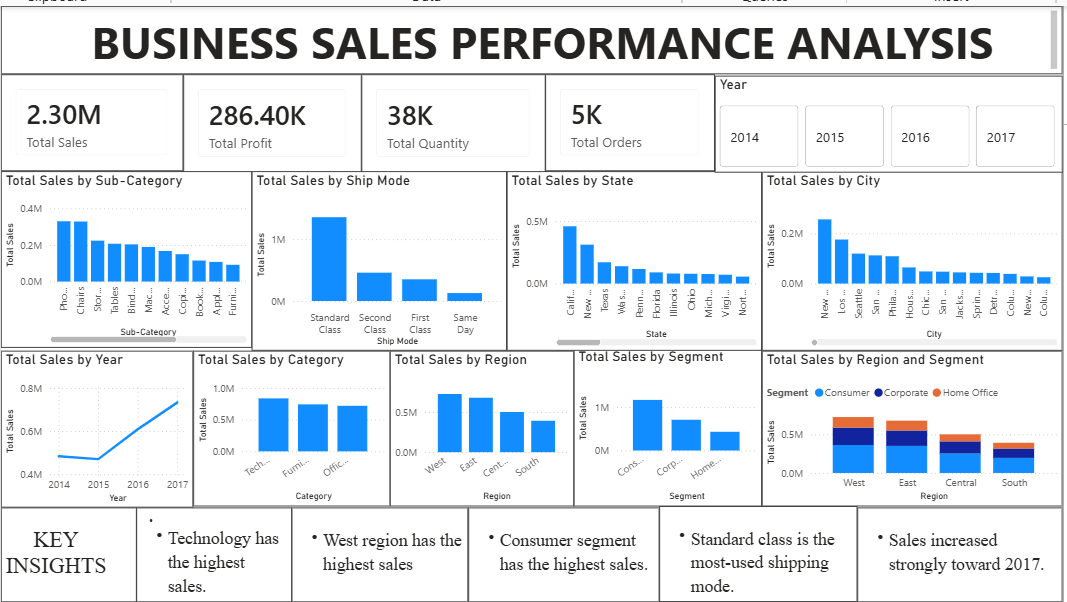

Layout of this report page (visuals, bound fields, positions):
{"tool":"powerbi","page":{"name":"Sales Performance Dashboard","canvas":[1280,720],"ordinal":0},"visuals":[{"type":"cardVisual","fields":{"Data":["Sample - Superstore.Total Sales"]},"box":[0,82.4,219.8,116.8],"z":0},{"type":"cardVisual","fields":{"Data":["Sample - Superstore.Total Profit"]},"box":[219.8,82.4,214.7,118.5],"z":1000},{"type":"cardVisual","fields":{"Data":["Sample - Superstore.Total Quantity"]},"box":[434.5,82.4,221.6,118.5],"z":2000},{"type":"cardVisual","fields":{"Data":["Sample - Superstore.Total Orders"]},"box":[656.1,82.4,204.4,116.8],"z":3000},{"type":"lineChart","fields":{"Category":["Sample - Superstore.Order Date.Variation.Date Hierarchy.Year","Sample - Superstore.Order Date.Variation.Date Hierarchy.Quarter","Sample - Superstore.Order Date.Variation.Date Hierarchy.Month","Sample - Superstore.Order Date.Variation.Date Hierarchy.Day"],"Y":["Sample - Superstore.Total Sales"]},"box":[0,415.6,231.9,188.9],"z":4000},{"type":"clusteredColumnChart","fields":{"Category":["Sample - Superstore.Category"],"Y":["Sample - Superstore.Total Sales"]},"box":[231.9,415.6,237,187.2],"z":5000},{"type":"clusteredColumnChart","fields":{"Category":["Sample - Superstore.Region"],"Y":["Sample - Superstore.Total Sales"]},"box":[468.9,415.6,221.6,187.2],"z":6000},{"type":"clusteredColumnChart","fields":{"Category":["Sample - Superstore.Segment"],"Y":["Sample - Superstore.Total Sales"]},"box":[690.5,412.2,226.7,190.6],"z":7000},{"type":"clusteredColumnChart","fields":{"Category":["Sample - Superstore.Sub-Category"],"Y":["Sample - Superstore.Total Sales"]},"box":[0,199.2,302.3,213],"z":8000},{"type":"clusteredColumnChart","fields":{"Category":["Sample - Superstore.Ship Mode"],"Y":["Sample - Superstore.Total Sales"]},"box":[302.3,199.2,307.4,216.4],"z":9000},{"type":"clusteredColumnChart","fields":{"Category":["Sample - Superstore.State"],"Y":["Sample - Superstore.Total Sales"]},"box":[609.7,199.2,307.4,216.4],"z":10000},{"type":"clusteredColumnChart","fields":{"Category":["Sample - Superstore.City"],"Y":["Sample - Superstore.Total Sales"]},"box":[917.2,199.2,362.4,216.4],"z":11000},{"type":"columnChart","fields":{"Category":["Sample - Superstore.Region"],"Y":["Sample - Superstore.Total Sales"],"Series":["Sample - Superstore.Segment"]},"box":[917.2,415.6,362.4,187.2],"z":12000},{"type":"advancedSlicerVisual","fields":{"Values":["Sample - Superstore.Order Date.Variation.Date Hierarchy.Year"]},"box":[860.5,84.2,419.1,116.8],"z":13000},{"type":"textbox","box":[0,0,1279.6,82.4],"z":14000},{"type":"textbox","box":[0,604.6,163.2,115.1],"z":15000},{"type":"textbox","box":[163.2,604.6,187.2,115.1],"z":16000},{"type":"textbox","box":[350.4,604.6,213,115.1],"z":17000},{"type":"textbox","box":[563.4,604.6,230.2,115.1],"z":17001},{"type":"textbox","box":[793.5,602.9,238.7,116.8],"z":17002},{"type":"textbox","box":[1032.2,604.6,247.3,115.1],"z":17003}]}

Visuals, with their boxes in screenshot pixels (x1, y1, x2, y2), scaled from the page's 1280x720 canvas onto the 1067x602 screenshot:
cardVisual - Sample - Superstore.Total Sales: x1=0, y1=69, x2=183, y2=167
cardVisual - Sample - Superstore.Total Profit: x1=183, y1=69, x2=362, y2=168
cardVisual - Sample - Superstore.Total Quantity: x1=362, y1=69, x2=547, y2=168
cardVisual - Sample - Superstore.Total Orders: x1=547, y1=69, x2=717, y2=167
lineChart - Sample - Superstore.Order Date.Variation.Date Hierarchy.Year x Sample - Superstore.Order Date.Variation.Date Hierarchy.Quarter: x1=0, y1=347, x2=193, y2=505
clusteredColumnChart - Sample - Superstore.Category x Sample - Superstore.Total Sales: x1=193, y1=347, x2=391, y2=504
clusteredColumnChart - Sample - Superstore.Region x Sample - Superstore.Total Sales: x1=391, y1=347, x2=576, y2=504
clusteredColumnChart - Sample - Superstore.Segment x Sample - Superstore.Total Sales: x1=576, y1=345, x2=765, y2=504
clusteredColumnChart - Sample - Superstore.Sub-Category x Sample - Superstore.Total Sales: x1=0, y1=167, x2=252, y2=345
clusteredColumnChart - Sample - Superstore.Ship Mode x Sample - Superstore.Total Sales: x1=252, y1=167, x2=508, y2=347
clusteredColumnChart - Sample - Superstore.State x Sample - Superstore.Total Sales: x1=508, y1=167, x2=764, y2=347
clusteredColumnChart - Sample - Superstore.City x Sample - Superstore.Total Sales: x1=765, y1=167, x2=1066, y2=347
columnChart - Sample - Superstore.Region x Sample - Superstore.Total Sales: x1=765, y1=347, x2=1066, y2=504
advancedSlicerVisual - Sample - Superstore.Order Date.Variation.Date Hierarchy.Year: x1=717, y1=70, x2=1066, y2=168
textbox: x1=0, y1=0, x2=1066, y2=69
textbox: x1=0, y1=506, x2=136, y2=601
textbox: x1=136, y1=506, x2=292, y2=601
textbox: x1=292, y1=506, x2=470, y2=601
textbox: x1=470, y1=506, x2=662, y2=601
textbox: x1=661, y1=504, x2=860, y2=601
textbox: x1=860, y1=506, x2=1066, y2=601
